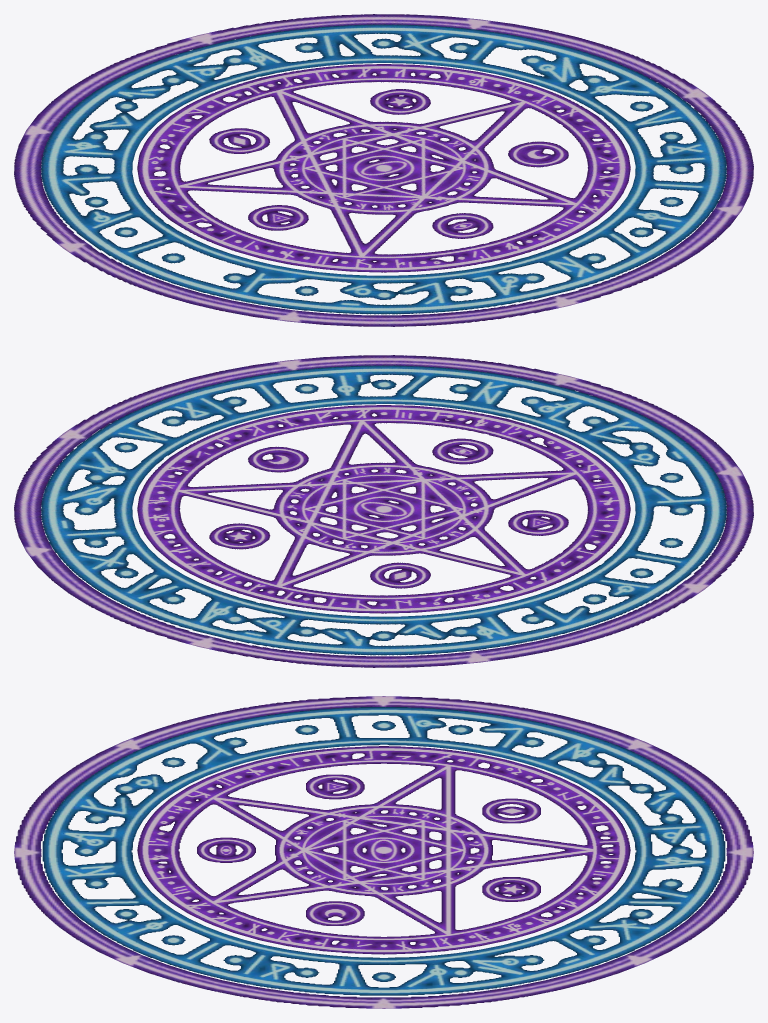
The model's file is prop_magicCircle.glb.
3 views of the same model, one above another, from view 1: azimuth 30°, elevation 25°; view 2: azimuth 150°, elevation 25°; view 3: azimuth 270°, elevation 25° (orthographic).
Parts seen in each view (by area): view 1: prop (×3); view 2: prop (×3); view 3: prop (×3).
Boxes of the visible parts, left/top/right/bottom form: prop (×3): left=14, top=14, right=753, bottom=326; prop (×3): left=14, top=355, right=753, bottom=667; prop (×3): left=14, top=696, right=753, bottom=1008.
Size of what is drawn, in the model's own units: 3 by 0.01 by 3.
3 materials, 3 textured.
